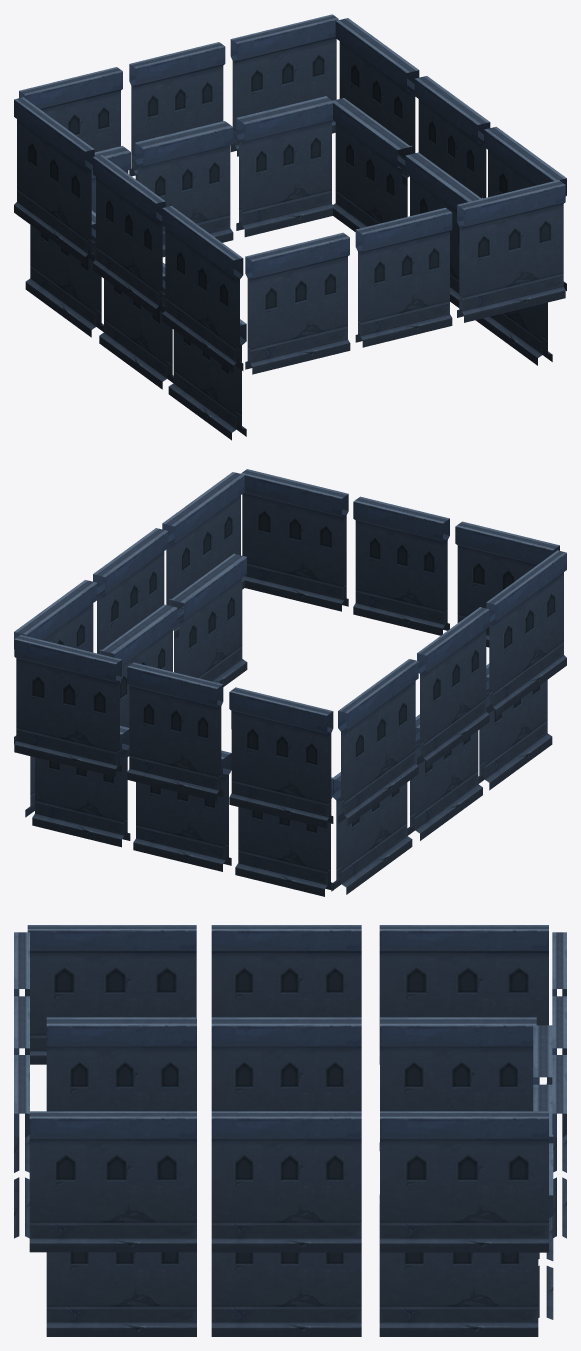
The model's file is Area_05_1.fbx.
3 views of the same model, one above another, from view 1: azimuth 30°, elevation 25°; view 2: azimuth 150°, elevation 25°; view 3: azimuth 270°, elevation 25° (orthographic). The views are drawn at different scales.
Visible parts, largest first — view 1: Area_05_1; view 2: Area_05_1; view 3: Area_05_1.
Boxes of the visible parts, <box> form: Area_05_1: <box>14,14,566,440</box>; Area_05_1: <box>14,469,566,896</box>; Area_05_1: <box>14,925,566,1336</box>.
Bounding box in the file's own units: 3632 × 1950 × 4390.
